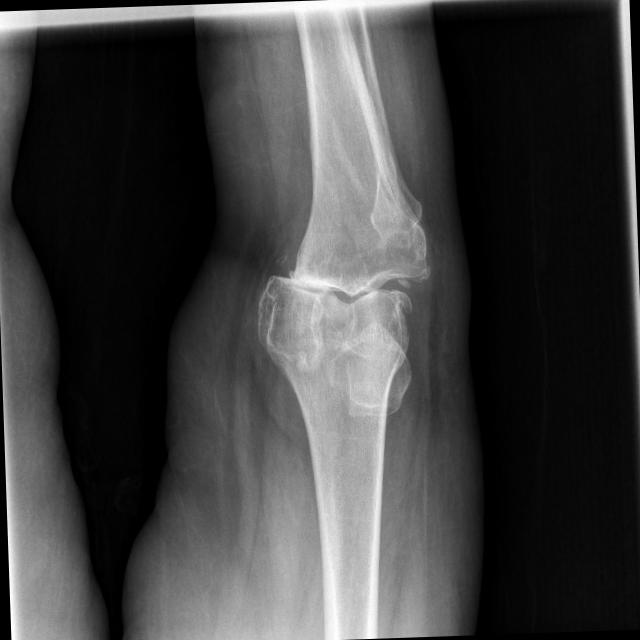Knee: (253, 201, 440, 374)
